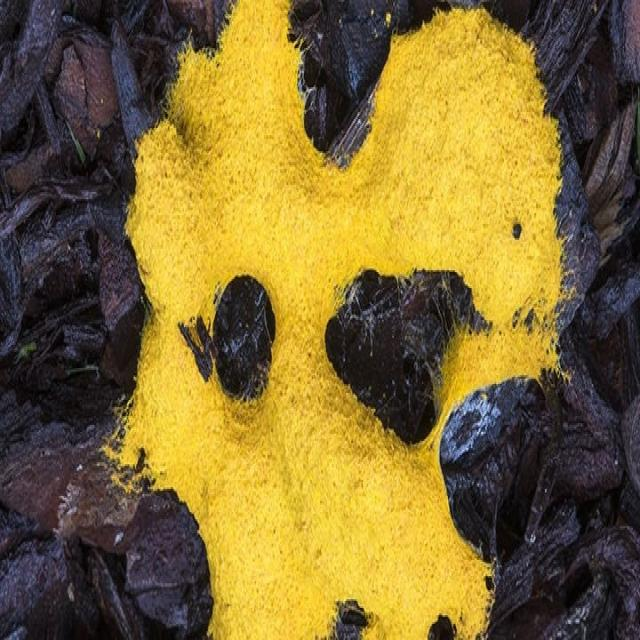Dog_vomit_slime_mold: (92, 2, 602, 636)
